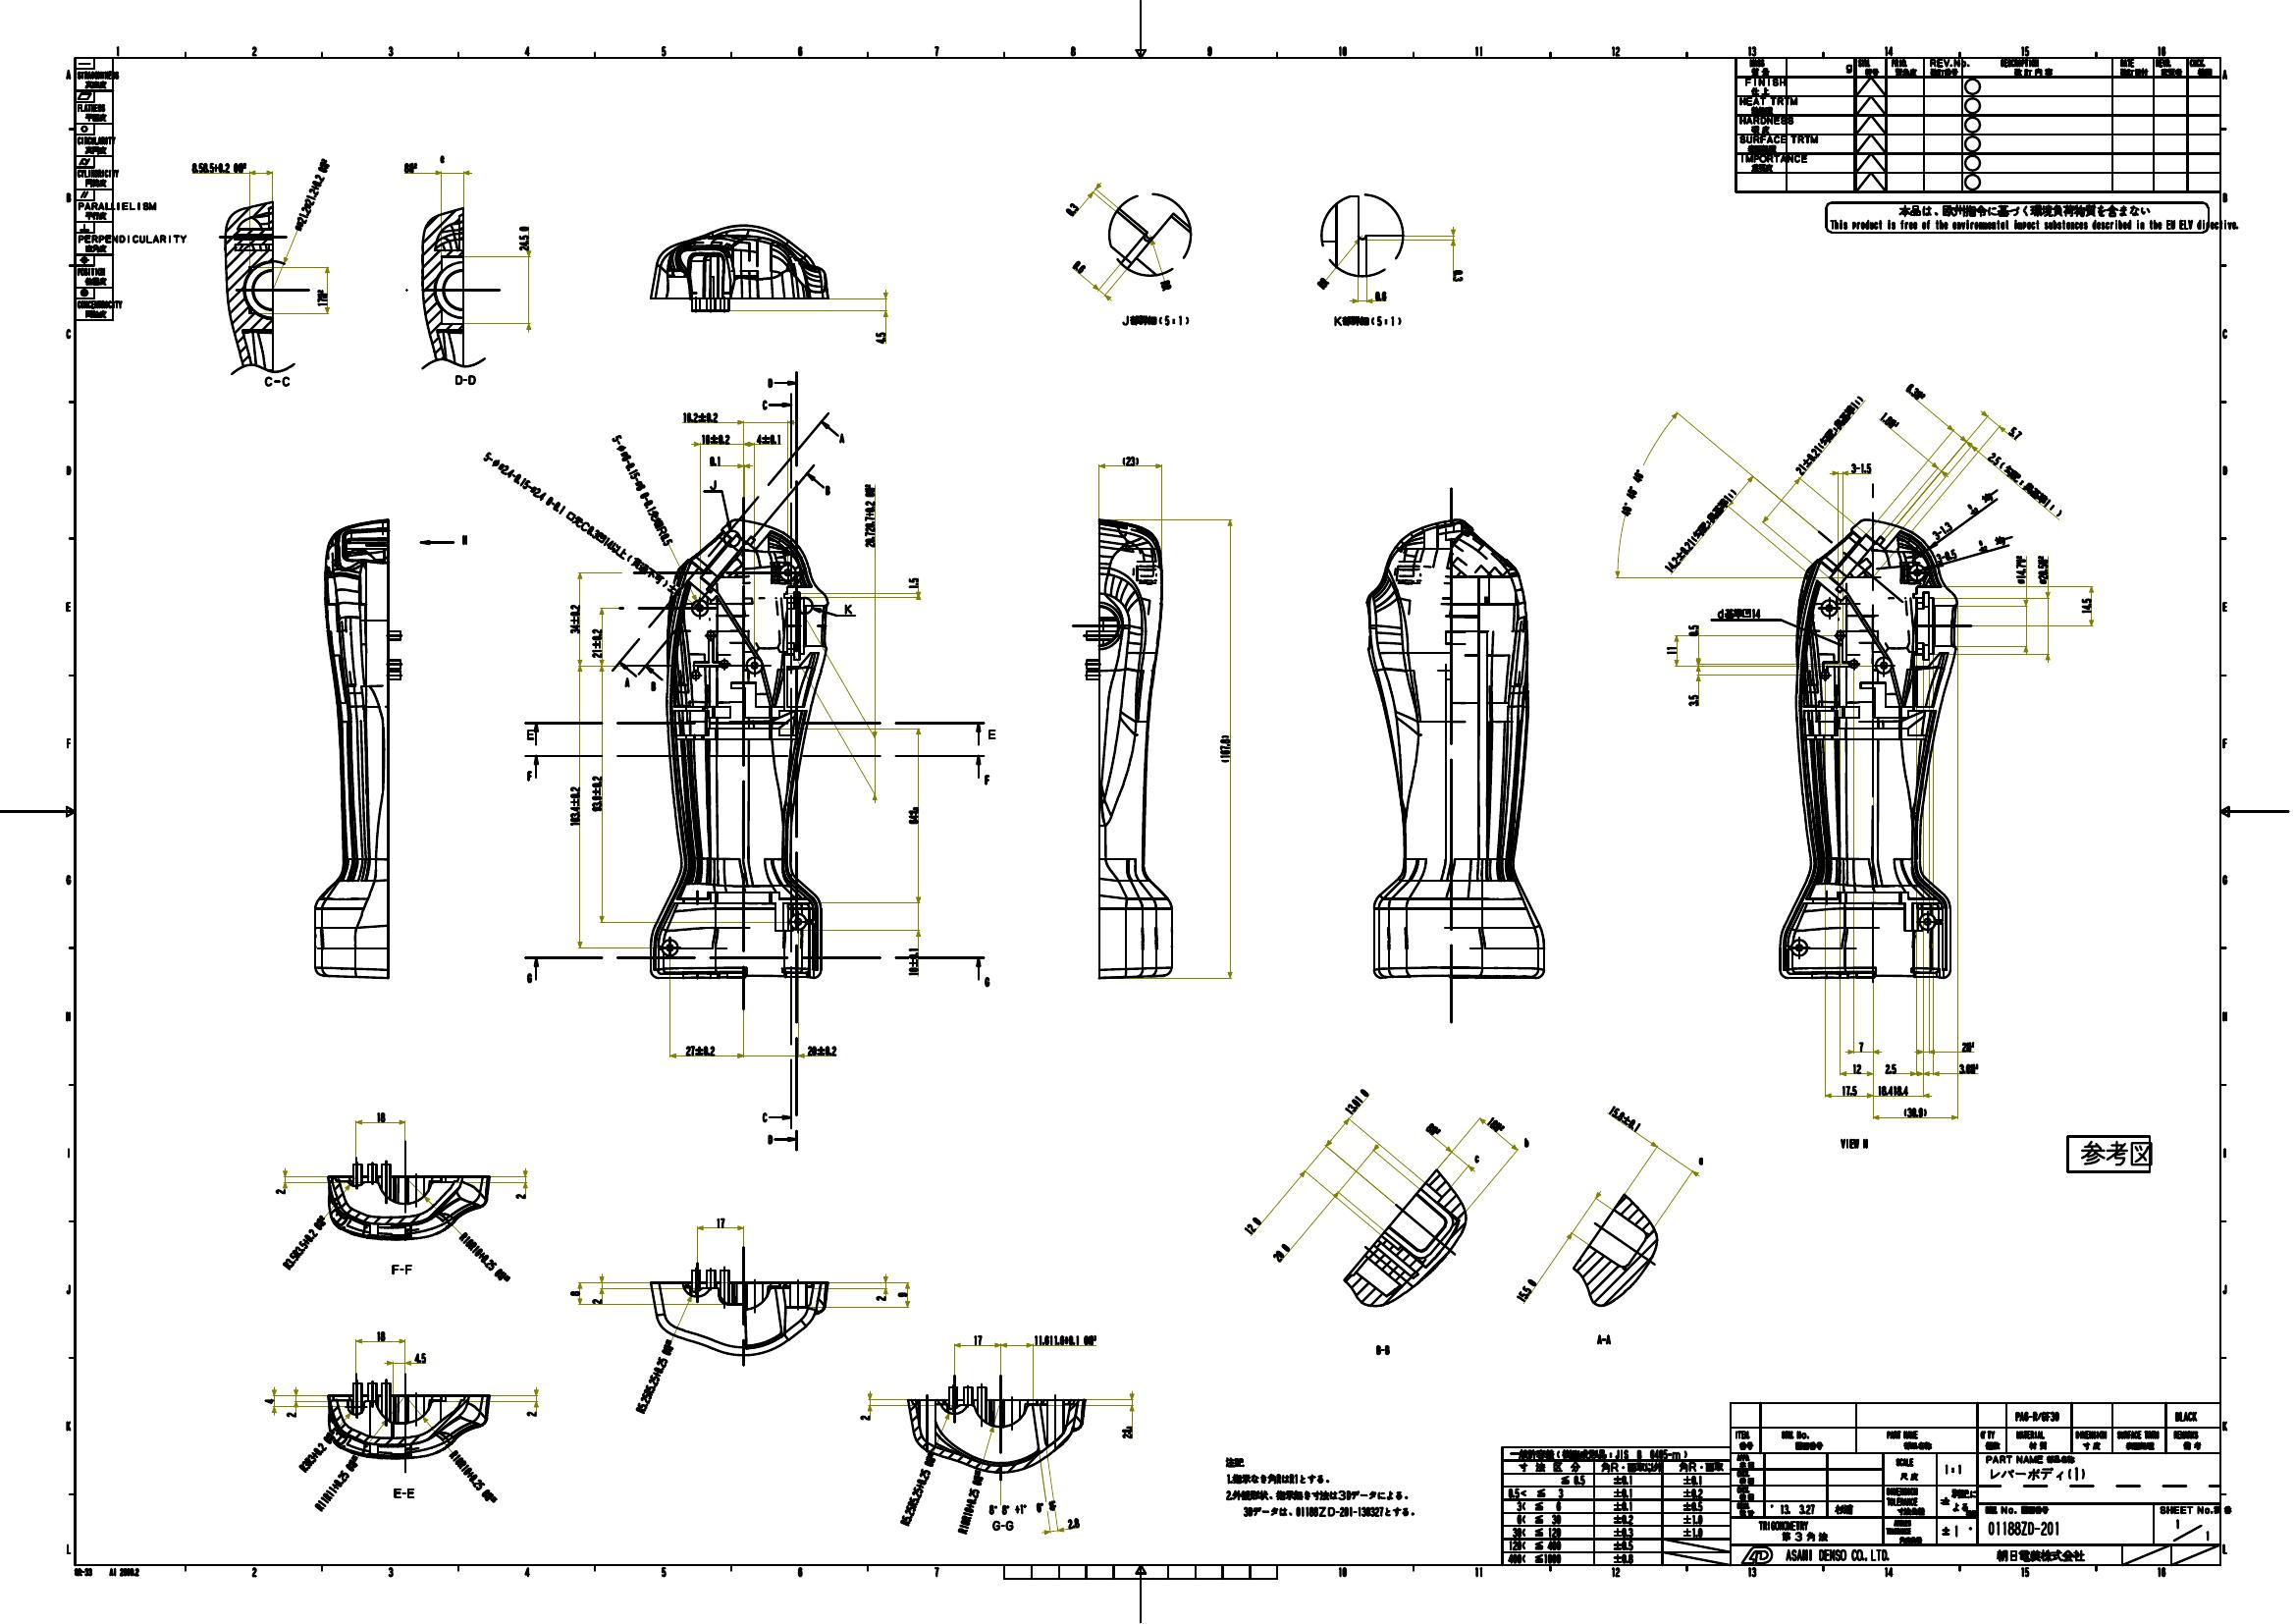anntotation_text: (1219, 1452, 1421, 1527), (1823, 202, 2208, 232), (2066, 1135, 2152, 1174), (1117, 309, 1193, 329), (1992, 480, 2071, 494), (1330, 315, 1404, 329), (74, 1566, 142, 1578), (622, 564, 671, 578), (260, 374, 295, 388), (388, 1485, 418, 1501), (1838, 1135, 1871, 1149), (388, 1258, 416, 1274), (448, 371, 480, 385), (989, 1519, 1017, 1531), (1374, 1343, 1395, 1355), (1592, 1334, 1614, 1345), (984, 726, 996, 743), (762, 374, 775, 390), (706, 475, 718, 489), (757, 397, 769, 411), (525, 726, 534, 743), (525, 766, 534, 784), (646, 678, 659, 691), (1470, 1151, 1481, 1165), (838, 432, 848, 446), (822, 482, 833, 496), (841, 603, 856, 613), (982, 772, 991, 787), (761, 1109, 769, 1125), (460, 531, 469, 547), (624, 671, 631, 689), (982, 974, 991, 988), (523, 972, 532, 986), (1521, 1137, 1532, 1148), (1692, 1156, 1704, 1165), (766, 1132, 773, 1146)
dimension_text: (464, 496, 645, 510), (632, 425, 648, 550), (1934, 538, 2022, 554), (1922, 504, 2008, 520), (1648, 526, 1753, 538), (613, 1369, 696, 1383), (1780, 429, 1881, 439), (304, 156, 316, 232), (448, 1253, 522, 1265), (302, 1476, 372, 1489), (437, 1471, 506, 1483), (863, 480, 875, 548), (938, 1496, 1005, 1508), (566, 782, 581, 831), (1031, 1334, 1100, 1345), (272, 1236, 339, 1246), (878, 1487, 956, 1496), (680, 1040, 722, 1056), (1627, 466, 1639, 518), (190, 162, 248, 172), (680, 408, 722, 422), (588, 772, 603, 814), (286, 1448, 341, 1459), (984, 1503, 1029, 1515), (805, 1040, 838, 1056), (1604, 1111, 1646, 1123), (1715, 608, 1764, 619), (697, 431, 733, 445), (567, 601, 581, 634), (1217, 731, 1231, 763), (1876, 1083, 1910, 1095), (2013, 552, 2025, 585), (754, 431, 782, 445), (516, 221, 529, 253), (1848, 459, 1873, 475), (590, 627, 603, 659), (1340, 1095, 1370, 1107), (2034, 554, 2047, 584), (905, 803, 919, 828), (1240, 1218, 1263, 1232), (1903, 1106, 1927, 1118), (1876, 417, 1901, 429), (1959, 1062, 1980, 1076), (1270, 1244, 1291, 1258), (1513, 1285, 1539, 1295), (1903, 387, 1929, 397), (2078, 596, 2092, 615), (1484, 1116, 1505, 1128), (314, 288, 327, 308), (906, 575, 921, 591), (1036, 1501, 1058, 1512), (1686, 691, 1699, 708), (1121, 1422, 1131, 1441), (372, 1329, 386, 1343), (873, 329, 885, 344), (1960, 1040, 1976, 1053), (1841, 1083, 1857, 1095), (2008, 425, 2024, 438), (1425, 1123, 1440, 1135), (1121, 455, 1138, 466), (1065, 1517, 1082, 1527), (402, 162, 418, 172), (708, 455, 724, 466), (1318, 278, 1330, 290), (374, 1111, 386, 1123), (1852, 1062, 1864, 1074), (713, 1216, 727, 1227), (283, 1410, 297, 1420), (413, 1352, 427, 1362), (1072, 260, 1086, 271), (1883, 1062, 1897, 1072), (1665, 643, 1676, 657), (970, 1334, 984, 1345), (262, 1396, 274, 1406), (1374, 290, 1386, 301), (1159, 279, 1172, 290), (274, 1185, 286, 1195), (873, 1292, 887, 1301), (567, 1290, 581, 1299), (1455, 269, 1463, 283), (1065, 204, 1079, 213), (513, 1192, 525, 1200), (1688, 622, 1697, 634), (896, 1290, 908, 1299), (523, 1410, 538, 1417), (859, 1413, 873, 1420), (1857, 1040, 1866, 1051), (590, 1297, 603, 1304), (437, 155, 444, 163)
object: (648, 517, 829, 977), (1365, 520, 1546, 977), (1778, 517, 1957, 975), (1086, 520, 1172, 981), (316, 517, 402, 977), (1342, 1171, 1467, 1304), (906, 1387, 1087, 1475), (650, 225, 829, 313), (648, 1269, 827, 1355), (223, 202, 295, 374), (327, 1383, 490, 1459), (329, 1165, 490, 1241), (422, 209, 485, 367), (1574, 1192, 1658, 1306), (1108, 192, 1191, 278), (1321, 195, 1402, 274)
title_block: (1504, 1403, 2220, 1564), (1736, 56, 2222, 190), (76, 56, 112, 320)
